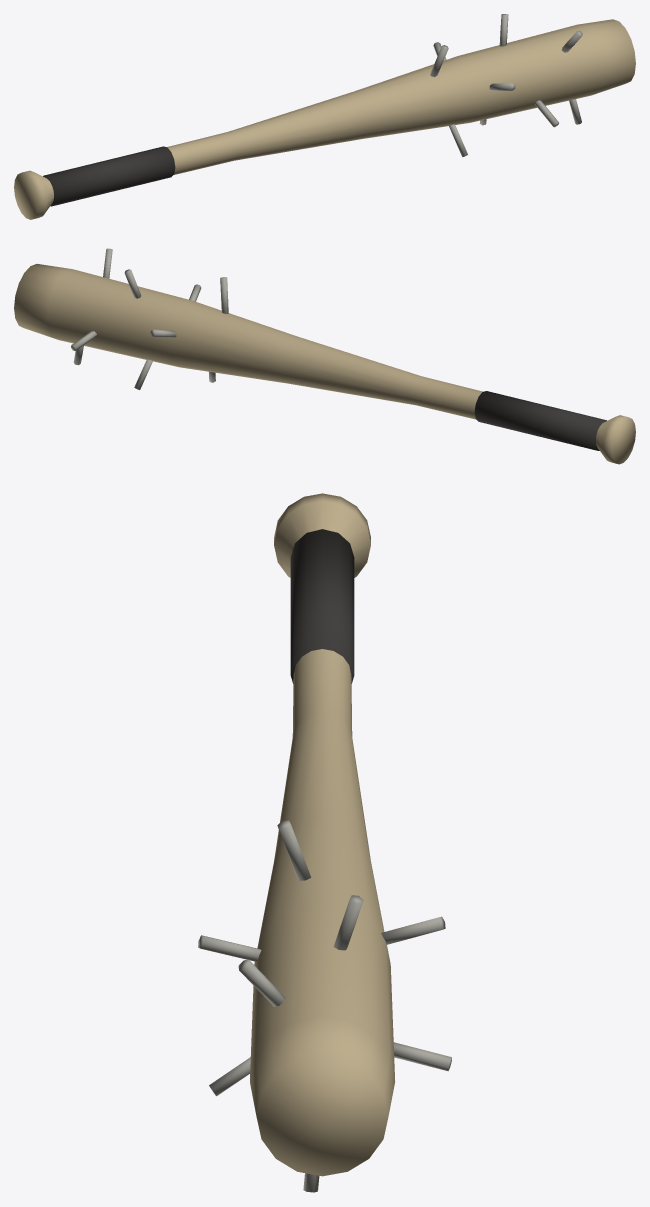
File: held_bat.glb
The picture shows the model from 3 angles, top to bottom: view 1: azimuth 30°, elevation 25°; view 2: azimuth 150°, elevation 25°; view 3: azimuth 270°, elevation 25°; orthographic projection. The views are drawn at different scales.
Visible parts, largest first — view 1: bat, grip; view 2: bat, grip; view 3: bat, grip.
Boxes of the visible parts, bbox=[...] form: bat: bbox=[14, 19, 635, 219]; grip: bbox=[43, 146, 175, 206]; bat: bbox=[14, 264, 635, 464]; grip: bbox=[474, 391, 606, 450]; bat: bbox=[250, 493, 395, 1176]; grip: bbox=[290, 529, 354, 683].
Size of the model in its own units: 0.85 by 0.1585 by 0.1557.
